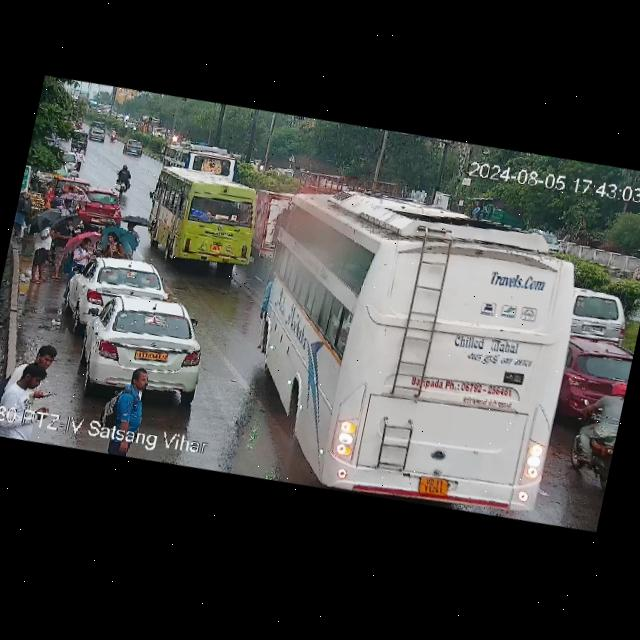bus: (239, 167, 600, 533), (136, 156, 266, 279), (162, 137, 246, 187)
car: (56, 277, 214, 407), (64, 245, 174, 329), (557, 337, 634, 420), (566, 285, 638, 352), (76, 185, 125, 229), (524, 219, 574, 259), (54, 147, 79, 178), (120, 137, 150, 159), (87, 126, 110, 146), (633, 246, 640, 287)
motorcycle: (564, 377, 626, 496), (114, 163, 135, 195), (108, 126, 120, 140)
person: (96, 365, 154, 434), (0, 364, 61, 426), (10, 339, 65, 404), (28, 212, 58, 287), (47, 214, 78, 281), (68, 236, 92, 277), (101, 231, 126, 260), (120, 216, 144, 246), (70, 148, 88, 173), (60, 198, 76, 218), (52, 184, 64, 198), (66, 186, 76, 196)
